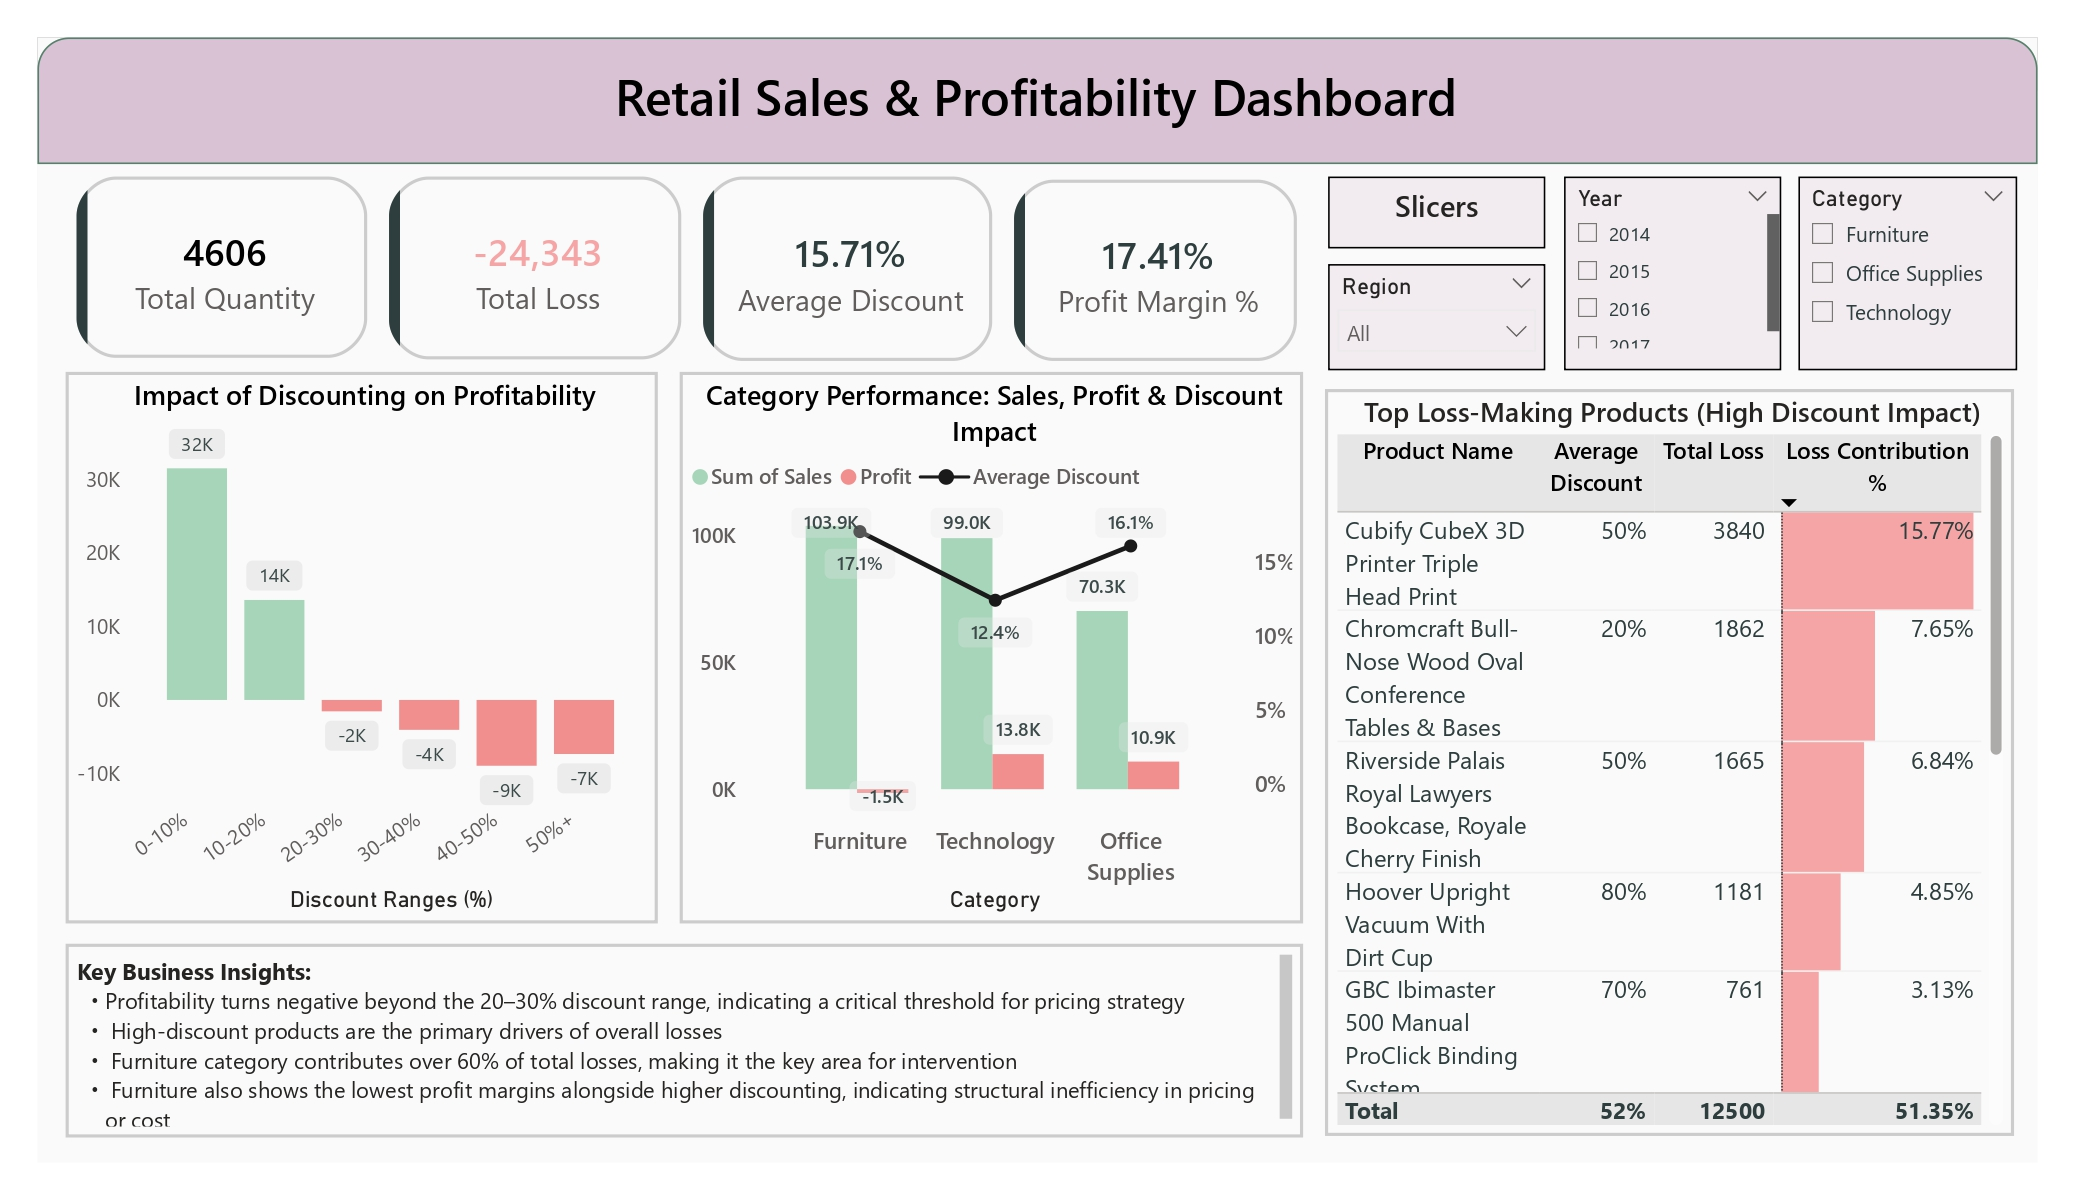

Layout of this report page (visuals, bound fields, positions):
{"tool":"powerbi","page":{"name":"Product & Discount Analysis","canvas":[1280,720],"ordinal":1},"visuals":[{"type":"shape","box":[0,0,1280.3,81],"z":0},{"type":"textbox","title":"Retail Sales & Profitability Dashboard","box":[293.7,15.1,690.2,52.1],"z":1000},{"type":"cardVisual","fields":{"Data":["superstore.Total Quantity"]},"box":[18.4,82.2,200,130.1],"z":2000},{"type":"cardVisual","fields":{"Data":["superstore.Profit Margin %"]},"box":[618.2,83.8,195.1,130.5],"z":3000},{"type":"lineClusteredColumnComboChart","title":"Category Performance: Sales, Profit & Discount Impact","fields":{"Category":["superstore.Category"],"Y":["Sum(superstore.Sales)","Sum(superstore.Profit)"],"Y2":["superstore.Average Discount"]},"box":[410.7,214.3,399.7,353],"z":4000},{"type":"cardVisual","fields":{"Data":["superstore.Average Discount"]},"box":[419,82.4,199.2,131.9],"z":5000},{"type":"textbox","box":[18.4,580.4,791.4,123.9],"z":6000},{"type":"slicer","fields":{"Values":["superstore.Region"]},"box":[825.6,144.5,139.9,68.7],"z":7000},{"type":"slicer","fields":{"Values":["superstore.Category"]},"box":[1127,88.9,140.1,123.6],"z":8000},{"type":"slicer","fields":{"Values":["Date Table.Year"]},"box":[976.5,89.3,139.9,123.9],"z":9000},{"type":"tableEx","title":"Top Loss-Making Products (High Discount Impact)","fields":{"Values":["superstore.Product Name","superstore.Average Discount","superstore.Total Loss ABS","superstore.Loss Contribution %"]},"box":[824.2,225.3,441,478],"z":10000},{"type":"textbox","box":[825.6,89.3,139.9,45.4],"z":11000},{"type":"cardVisual","fields":{"Data":["superstore.Total Loss"]},"box":[218.4,82.4,200.6,130.5],"z":12000},{"type":"clusteredColumnChart","title":"Impact of Discounting on Profitability","fields":{"Category":["superstore.Discount Ranges"],"Y":["Sum(superstore.Profit)"]},"box":[17.9,214.3,379.1,353],"z":13000}]}

Visuals, with their boxes on the page's 1280x720 design canvas (x1, y1, x2, y2). These are canvas units, not pixel positions in the 2075x1200 screenshot, which may show the page scaled, cropped or inside an application window:
shape: region(0, 0, 1280, 81)
"Retail Sales & Profitability Dashboard" textbox: region(294, 15, 984, 67)
cardVisual - superstore.Total Quantity: region(18, 82, 218, 212)
cardVisual - superstore.Profit Margin %: region(618, 84, 813, 214)
"Category Performance: Sales, Profit & Discount Impact" lineClusteredColumnComboChart: region(411, 214, 810, 567)
cardVisual - superstore.Average Discount: region(419, 82, 618, 214)
textbox: region(18, 580, 810, 704)
slicer - superstore.Region: region(826, 144, 966, 213)
slicer - superstore.Category: region(1127, 89, 1267, 212)
slicer - Date Table.Year: region(976, 89, 1116, 213)
"Top Loss-Making Products (High Discount Impact)" tableEx: region(824, 225, 1265, 703)
textbox: region(826, 89, 966, 135)
cardVisual - superstore.Total Loss: region(218, 82, 419, 213)
"Impact of Discounting on Profitability" clusteredColumnChart: region(18, 214, 397, 567)
